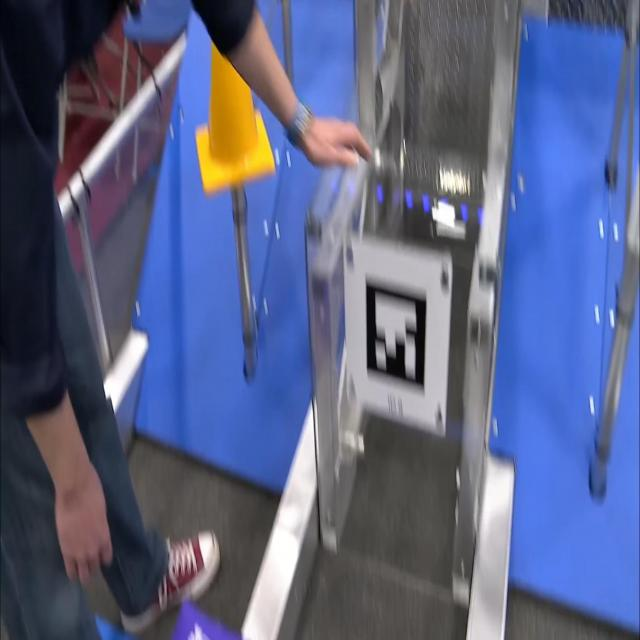frc_cone: (190, 0, 278, 192)
